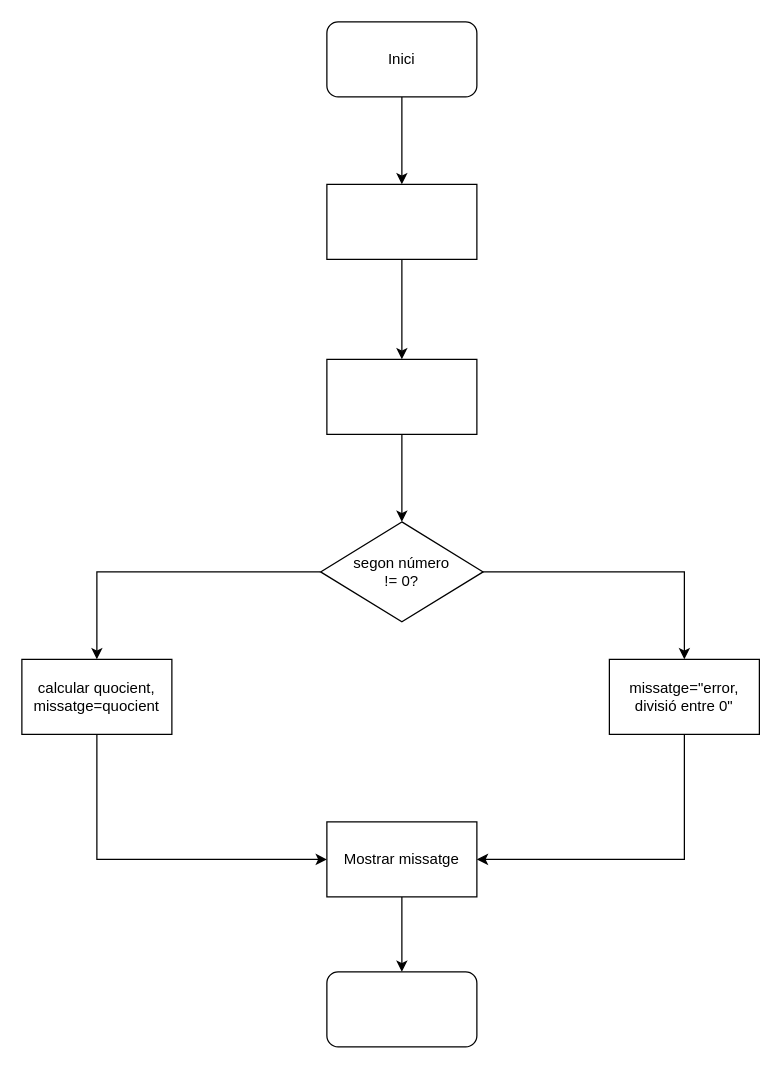
Some shapes in this 781 by 1069 pixel diagram are drawn without their labels. The centre of each missing label's shape, as x and y in pixels:
Calcular i mostrar suma, resta producte.: point (401, 396)
Fi: point (401, 1009)
Llegir els dos números: point (401, 221)
